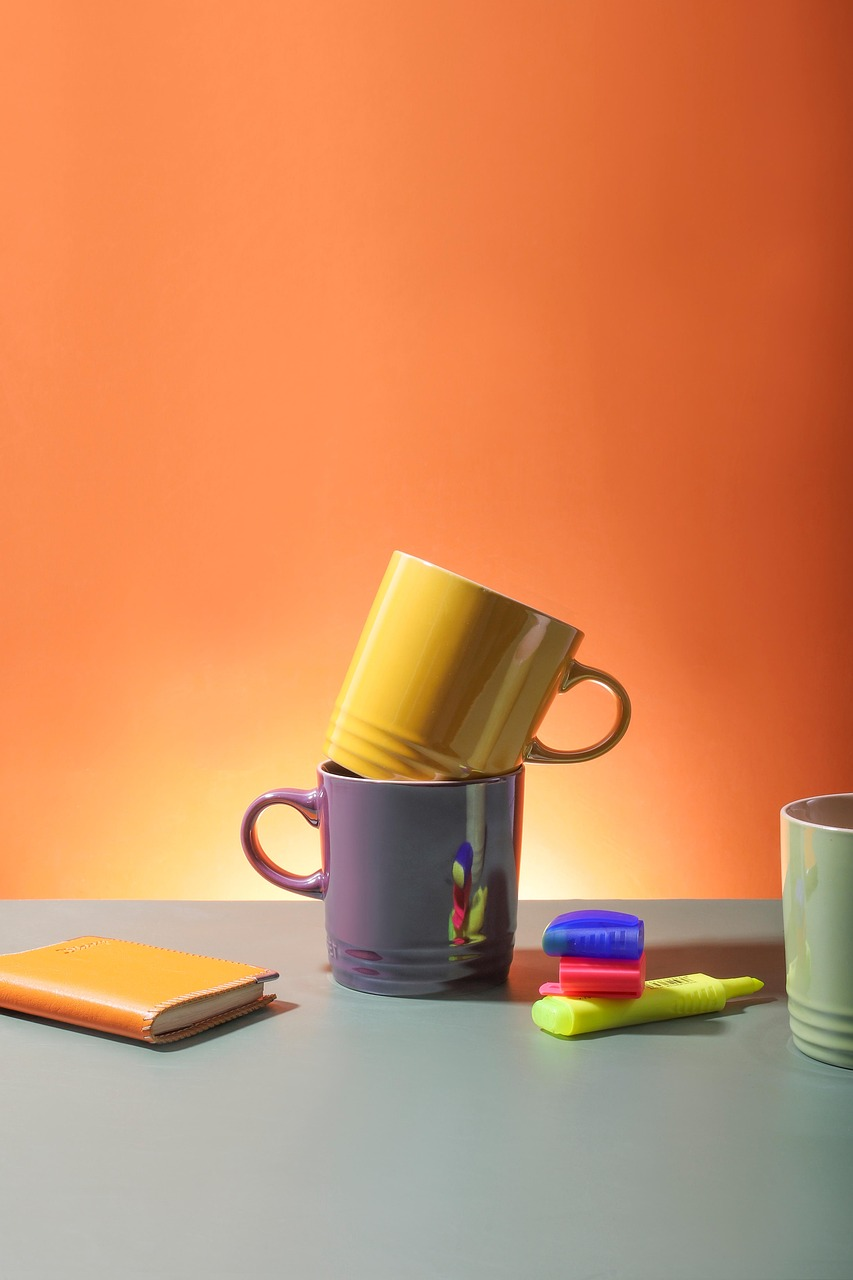mug: (221, 764, 594, 1047), (293, 544, 653, 777), (760, 787, 853, 1083)
